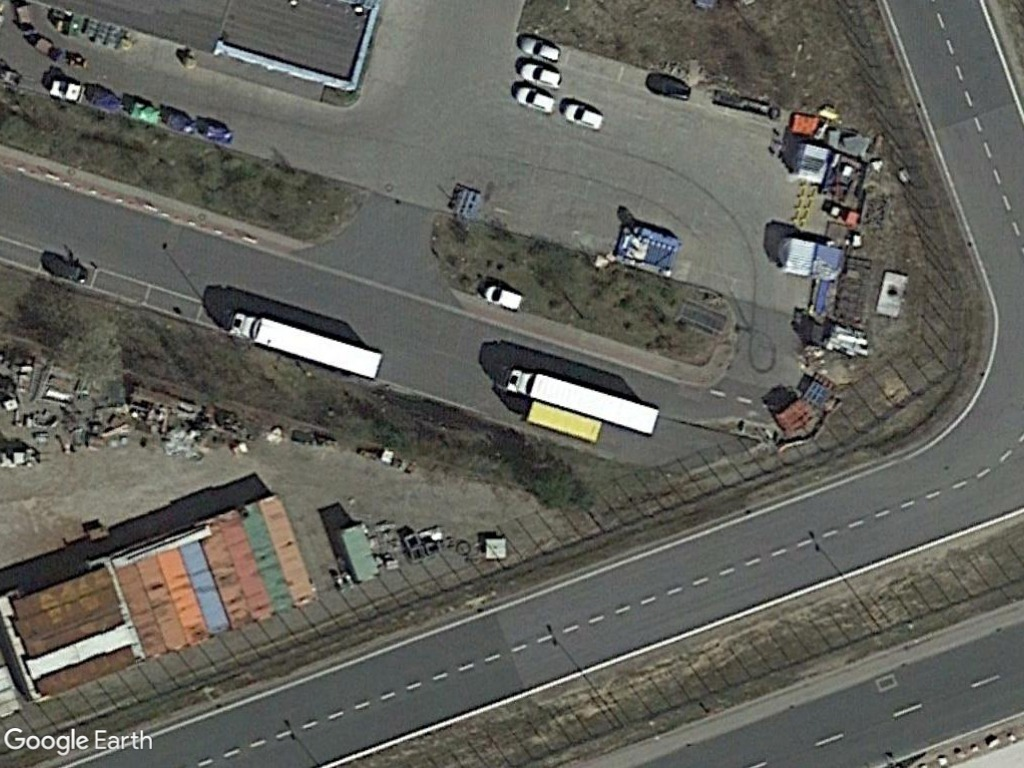longvehicle: (220, 303, 388, 382), (493, 363, 663, 440)
van: (477, 273, 528, 316), (514, 53, 564, 94), (505, 82, 557, 118), (558, 96, 607, 131), (511, 31, 566, 62)
